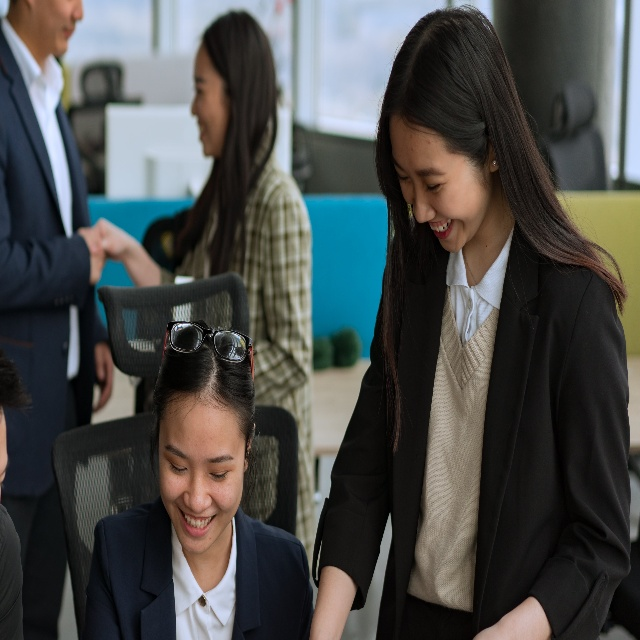Gafas: (161, 318, 256, 381)
Sin_guantes: (77, 224, 107, 283), (95, 216, 128, 259)
